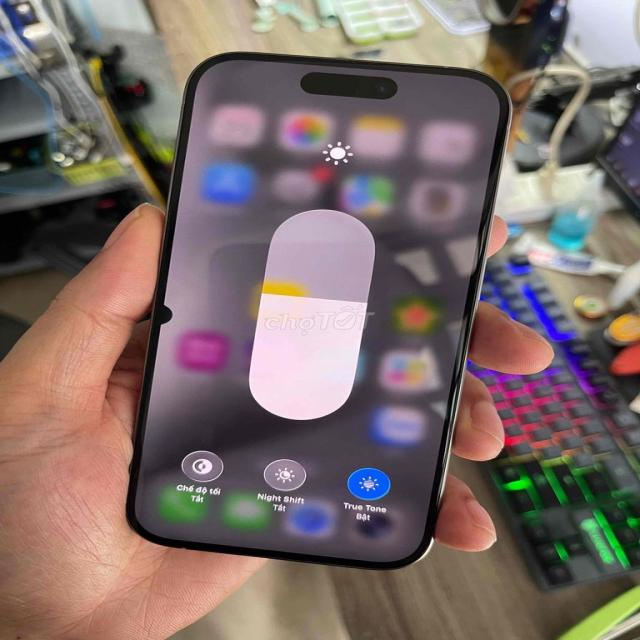screen_defect: (152, 302, 174, 329)
